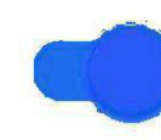Switch: (1, 1, 160, 139)
